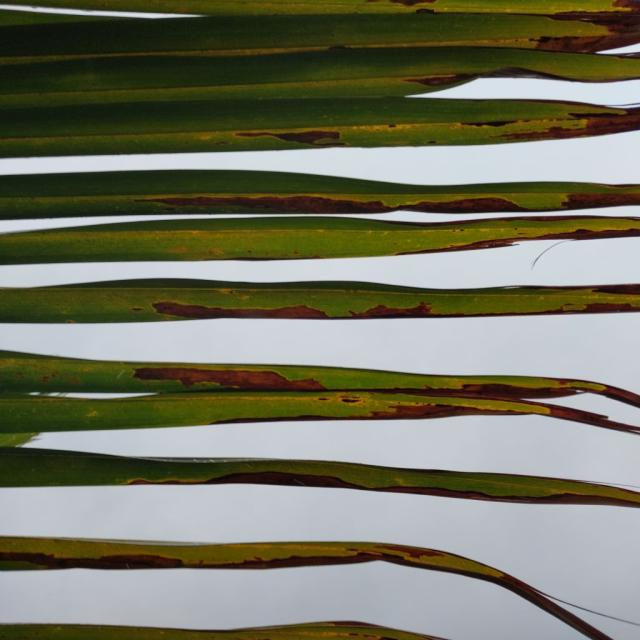gray leaf spot: (37, 5, 640, 640)
